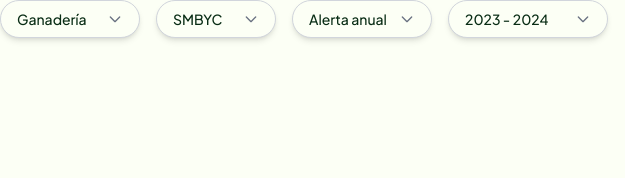
Scenario: FilterSelects › activity options › offers the three supply chains
This screenshot has width=625, height=178.
Click the text "Ganadería". click: (52,19)
box: [17,10,86,28]
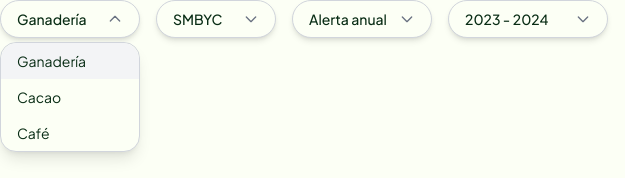
expect the text "Cacao" is shown: met, box [17,88,61,106]
expect the text "Café" is shown: met, box [17,124,50,142]
